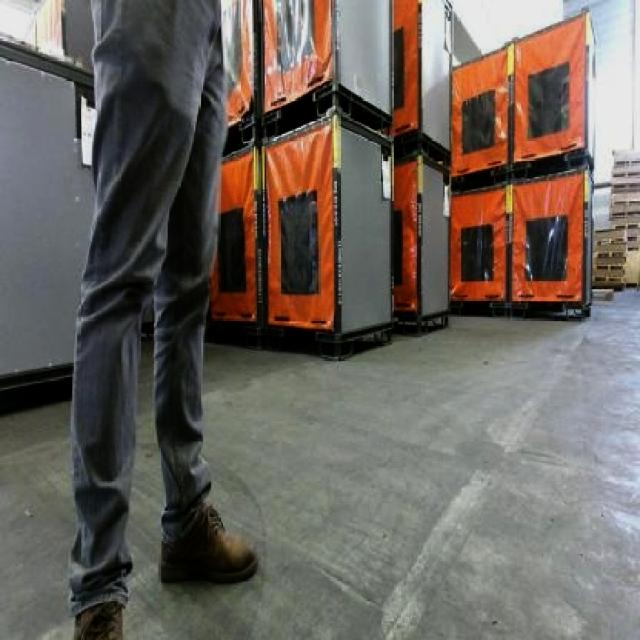floor: (123, 289, 637, 637), (0, 400, 71, 637)
pallets: (449, 12, 588, 311), (263, 112, 389, 354), (392, 152, 446, 328), (594, 149, 637, 283)
